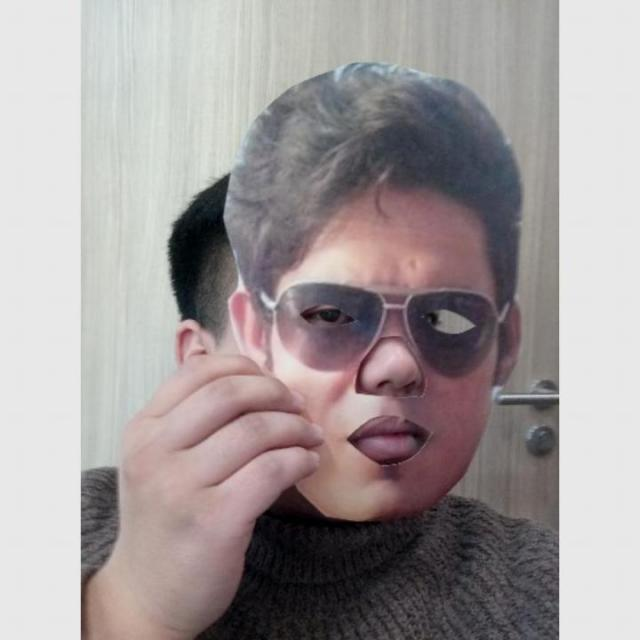mask: (220, 61, 531, 520)
